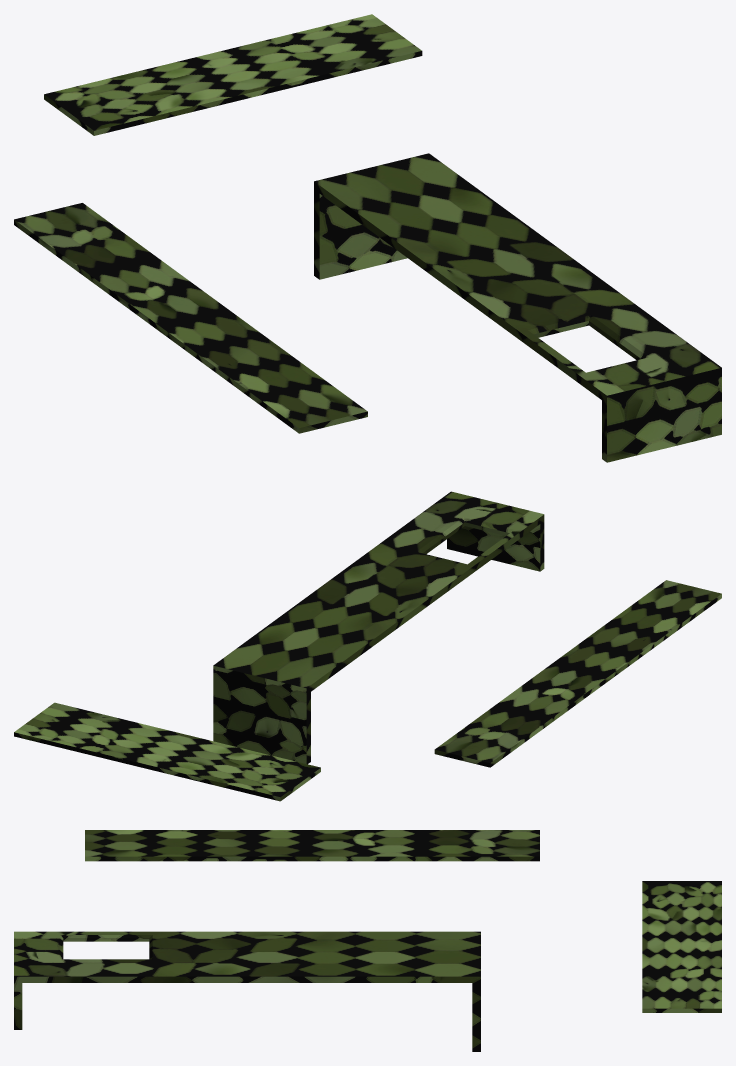
File: modern_scandinavian_kitchen_island_2.obj
The picture shows the model from 3 angles, top to bottom: view 1: azimuth 30°, elevation 25°; view 2: azimuth 150°, elevation 25°; view 3: azimuth 270°, elevation 25°; orthographic projection. The views are drawn at different scales.
Bounding box in the file's own units: 4.44 × 0.898 × 7.23.
